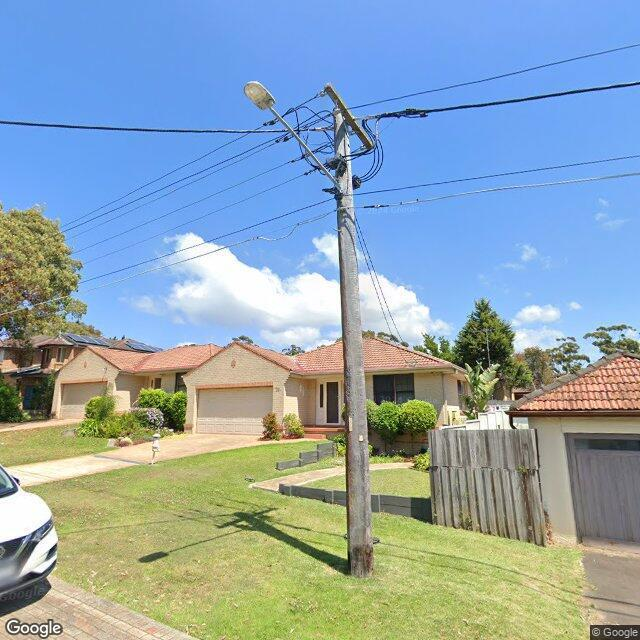crossarm: (324, 81, 376, 151)
streetlight: (243, 81, 346, 197)
timber-pole: (334, 107, 376, 581)
